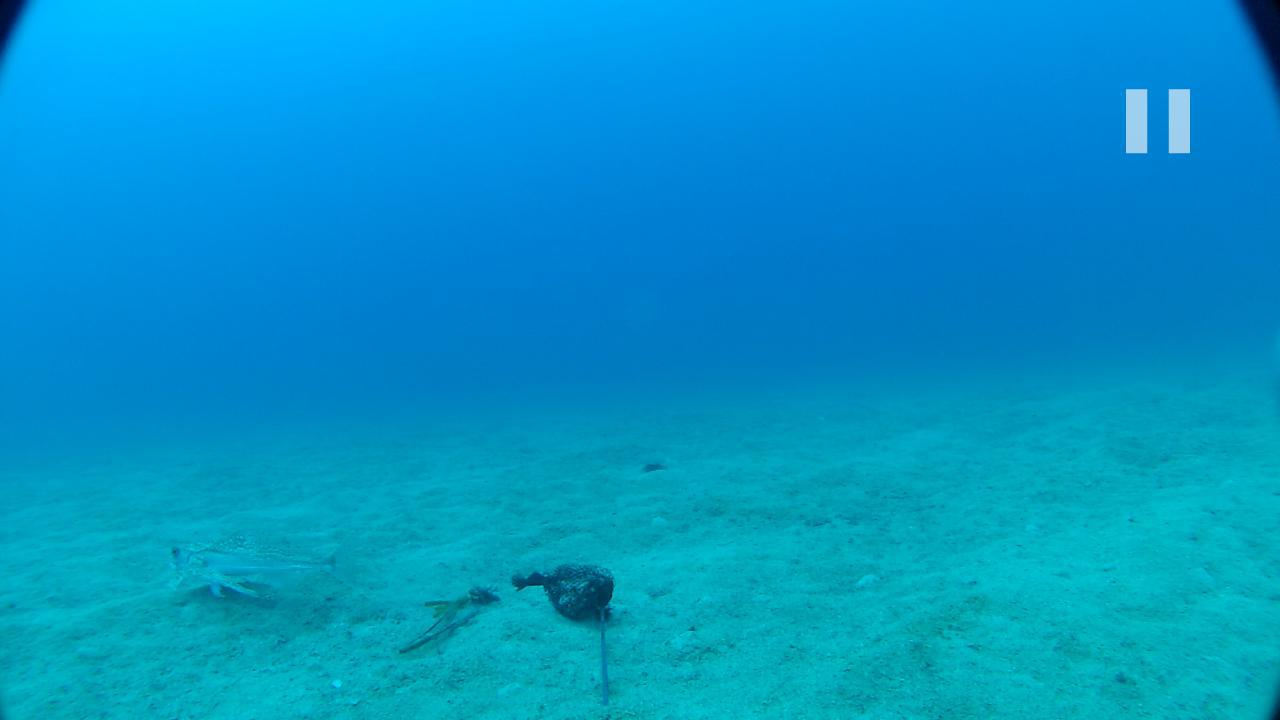bothus: (638, 450, 669, 468)
